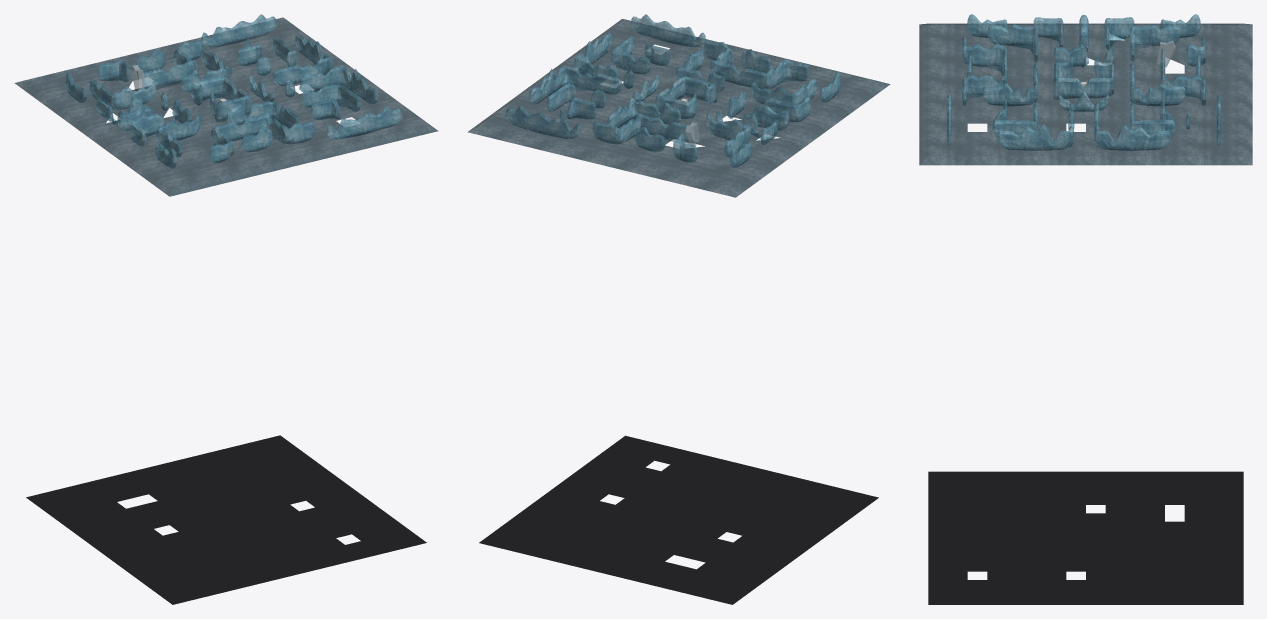
The model's file is Ice_labyrinth1.0.5blend.fbx.
3 renders of one model, left to right at view 1: azimuth 30°, elevation 25°; view 2: azimuth 150°, elevation 25°; view 3: azimuth 270°, elevation 25°, orthographic. The views are drawn at different scales.
Visible parts, largest first — view 1: Floor, Floor_001, Walls; view 2: Floor, Floor_001, Walls; view 3: Floor, Floor_001, Walls.
Boxes of the visible parts, x1=… form: Floor: x1=14, y1=17, x2=438, y2=196; Floor_001: x1=26, y1=435, x2=426, y2=604; Walls: x1=65, y1=14, x2=402, y2=167; Floor: x1=467, y1=19, x2=890, y2=197; Floor_001: x1=479, y1=435, x2=878, y2=604; Walls: x1=505, y1=14, x2=841, y2=167; Floor: x1=919, y1=23, x2=1252, y2=165; Floor_001: x1=928, y1=471, x2=1243, y2=604; Walls: x1=946, y1=14, x2=1221, y2=150.
Size of the model in its own units: 123 by 191 by 123.
